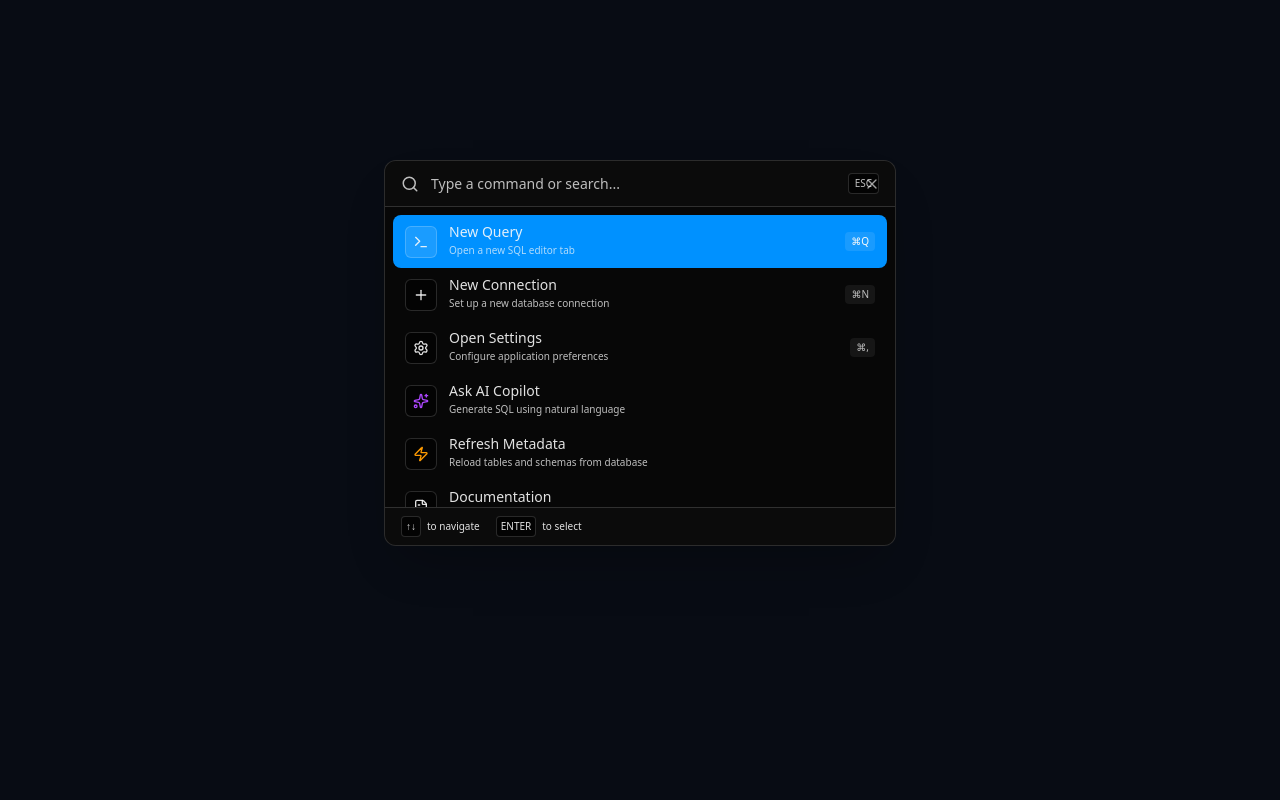
Test: CommandPalette › filters commands based on search
Type "Settings" into the field with placeholder "Type a command or search..." at x=639, y=184, box [431,174,848,194]
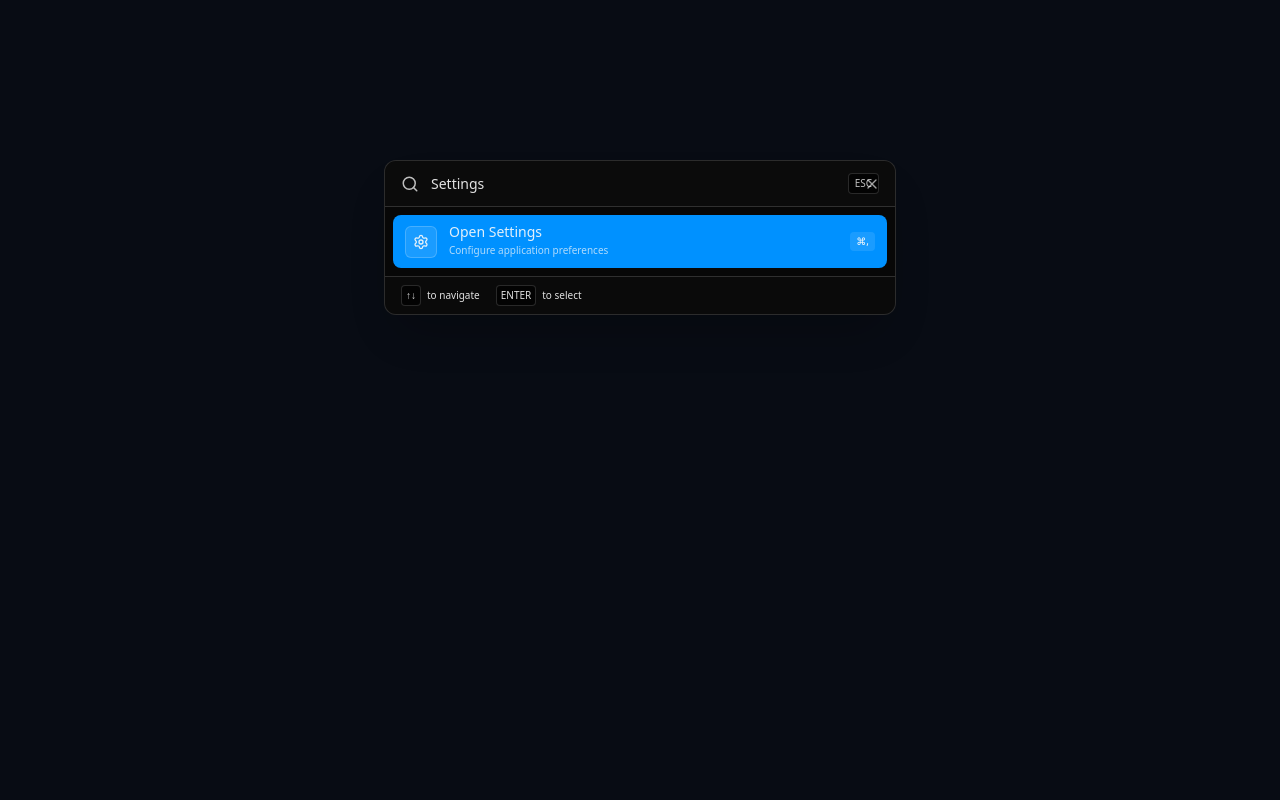
expect the text "Open Settings" is shown: met, box [449,222,542,241]
expect the text "New Connection" is gone: met
